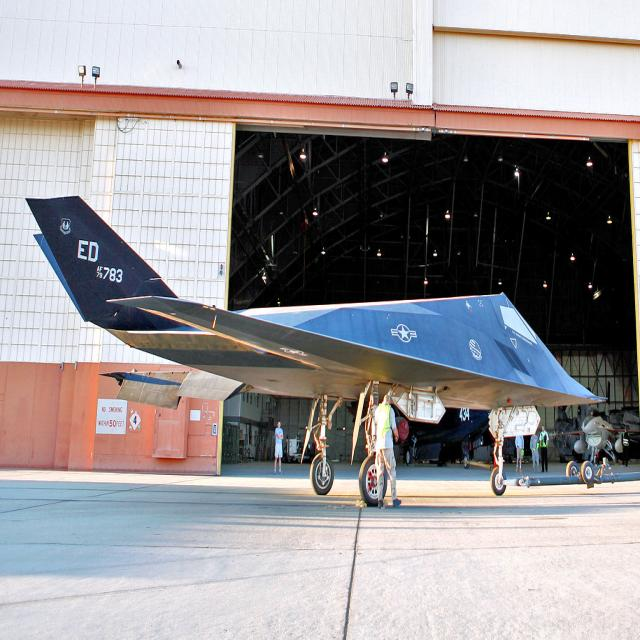MIL_Plane: (25, 195, 608, 507), (550, 381, 638, 466)
